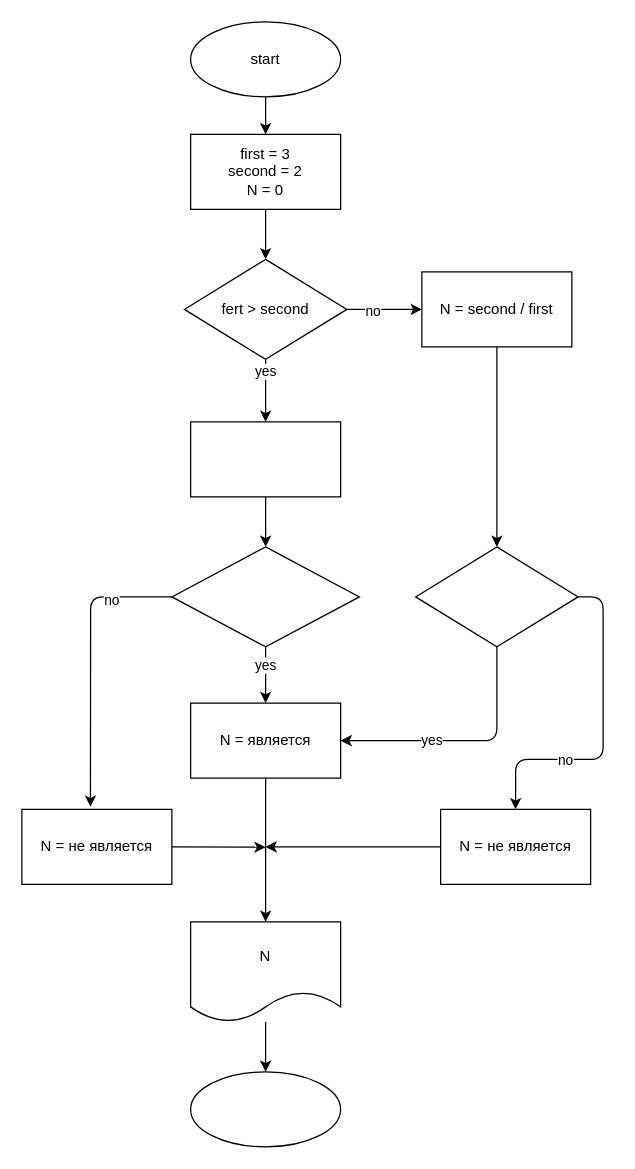
The diagram is 635 pixels wide and 1169 high, and some of its shapes have lost their labels. Each missing label, with the centre of its shape:
"end" goes at [265,1109].
"N = first / second" goes at [265,459].
"N == first" goes at [496,596].
"N == second" goes at [265,596].
